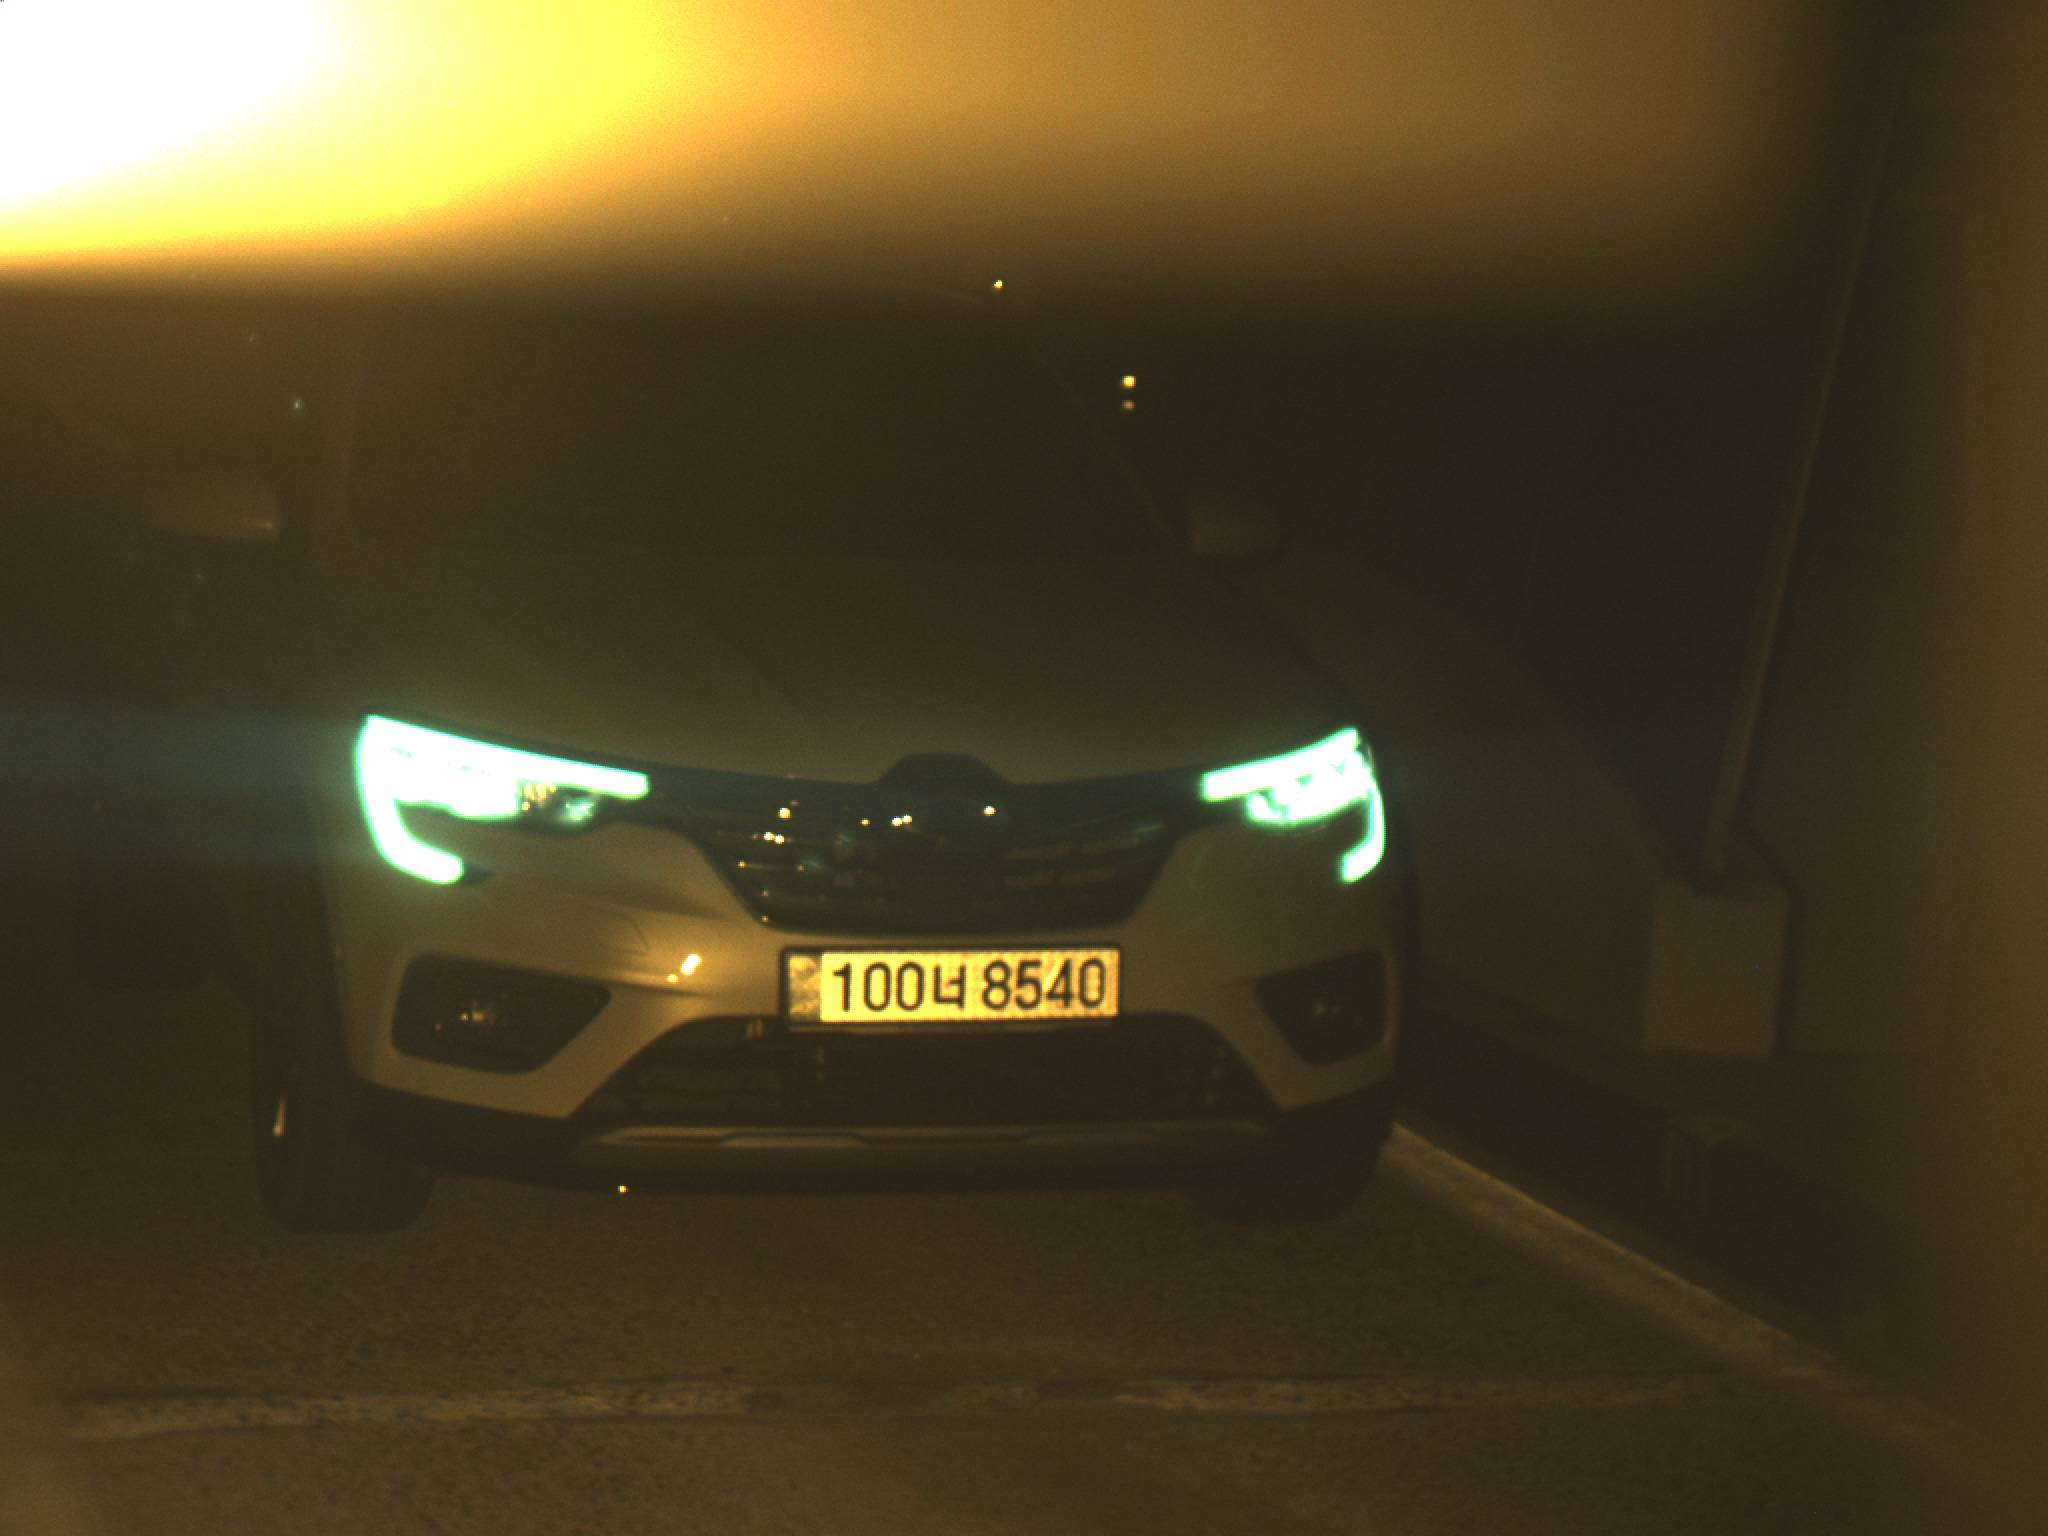car: (73, 242, 1421, 1231)
plate: (773, 940, 1129, 1040)
